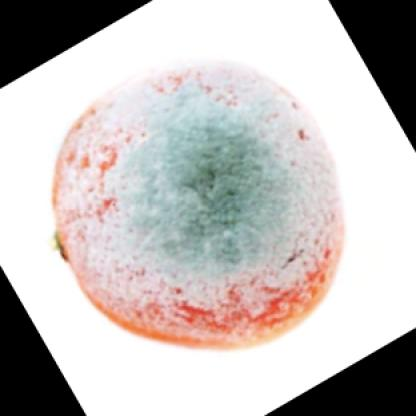rotten: (56, 65, 344, 348)
